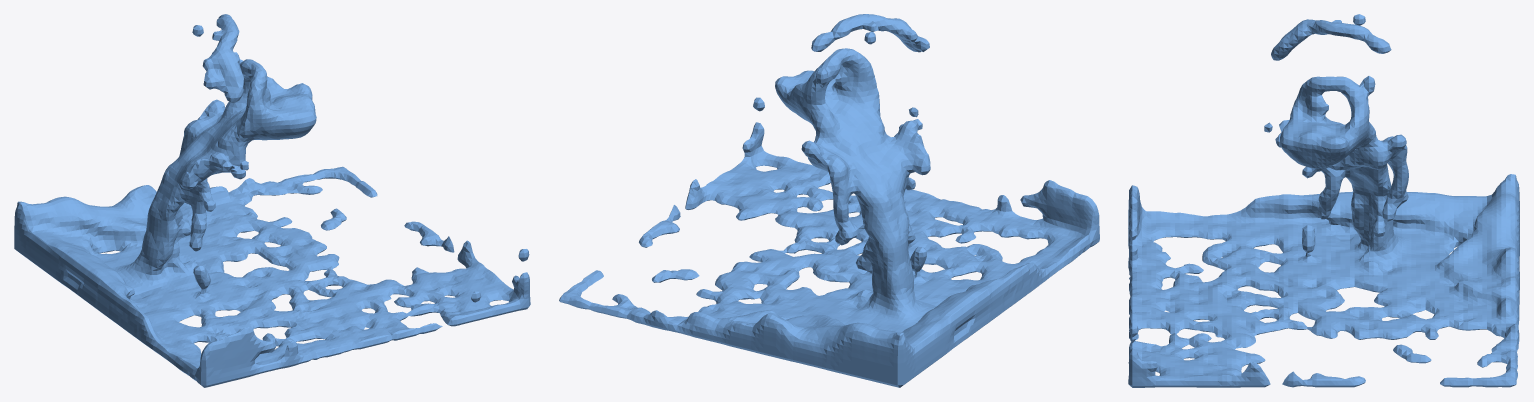
File: water_0059.glb
3 views of the same model, side by side, from view 1: azimuth 30°, elevation 25°; view 2: azimuth 150°, elevation 25°; view 3: azimuth 270°, elevation 25° (orthographic). The views are drawn at different scales.
Visible parts, largest first — view 1: Water_0059; view 2: Water_0059; view 3: Water_0059.
Boxes of the visible parts, <box> form: Water_0059: <box>14,14,530,387</box>; Water_0059: <box>559,14,1099,387</box>; Water_0059: <box>1128,14,1519,387</box>.
Size of the model in its own units: 4.83 by 3.63 by 4.83.
